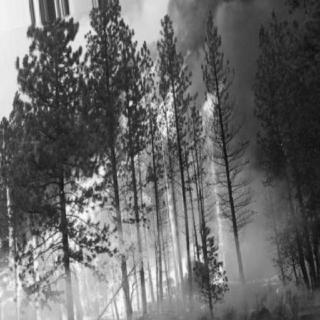Fire: (205, 70, 223, 284)
